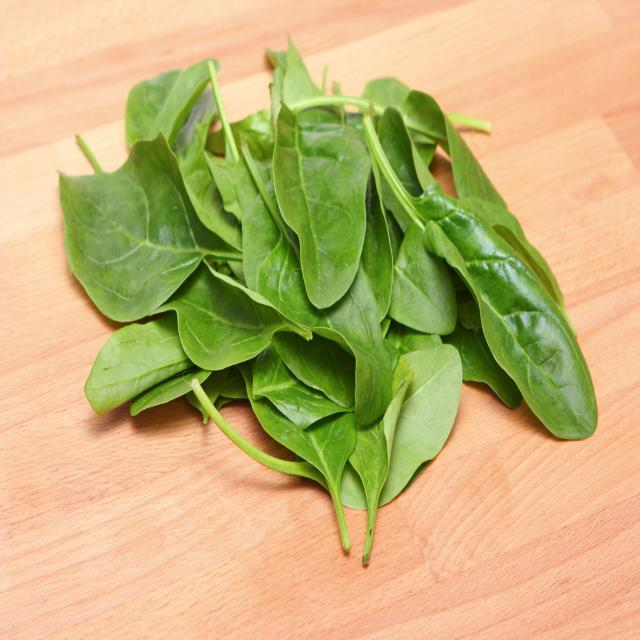spinach: (51, 38, 592, 536), (362, 116, 598, 439), (59, 133, 235, 322), (272, 103, 371, 308), (160, 263, 288, 370)
